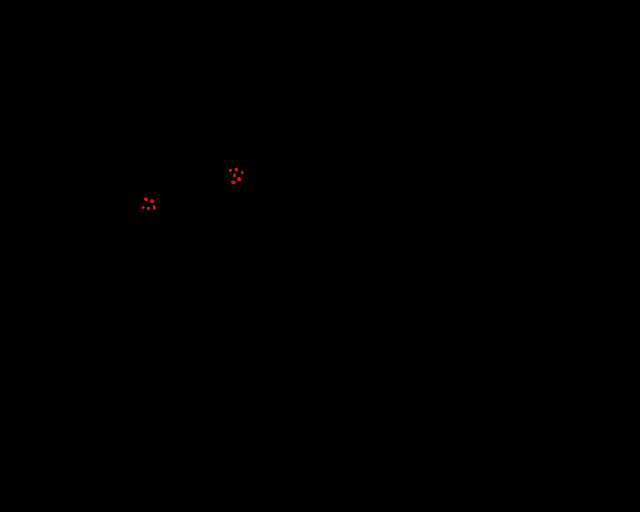Target: (231, 180, 236, 184), (237, 177, 241, 181), (150, 199, 154, 203), (153, 205, 156, 210), (234, 168, 238, 171), (233, 173, 236, 177), (144, 198, 148, 201), (229, 169, 232, 172), (241, 171, 244, 174), (142, 206, 145, 209), (147, 207, 150, 210)
